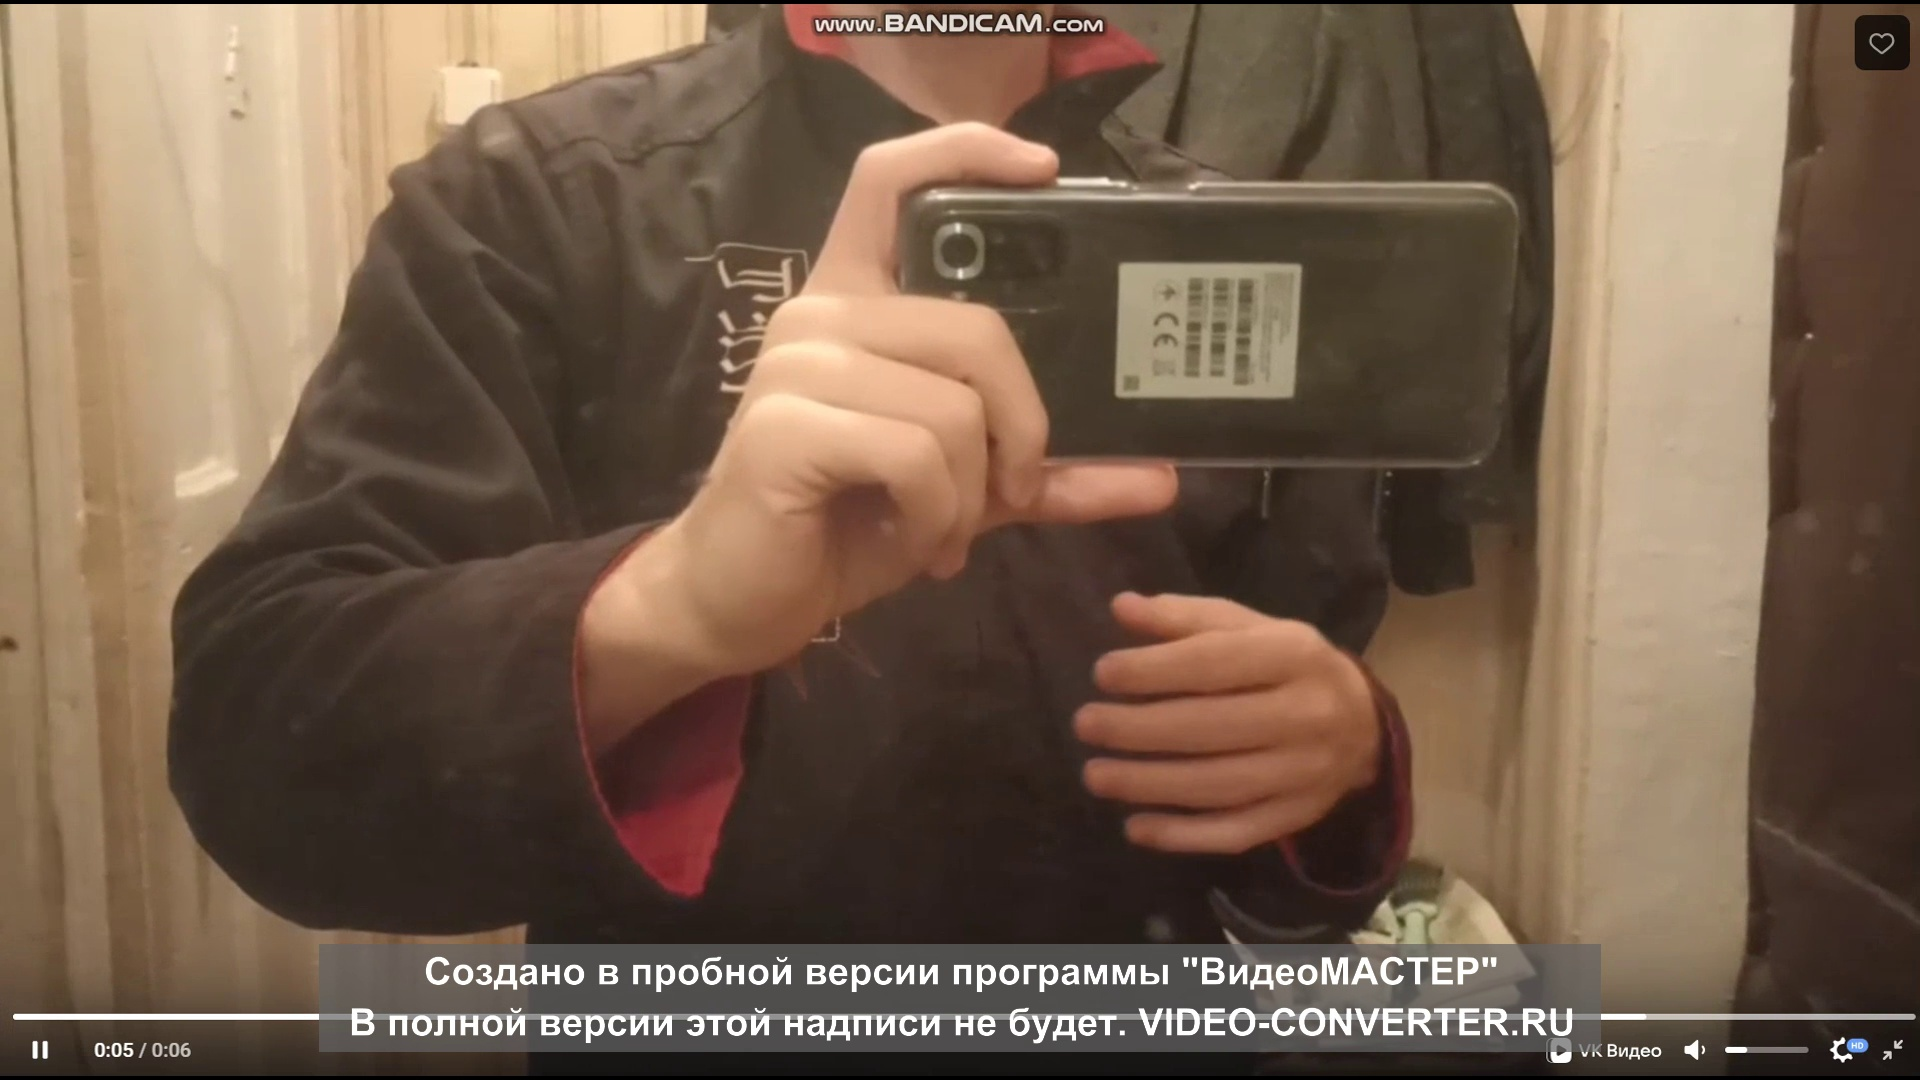Кисть: (1076, 597, 1364, 857)
